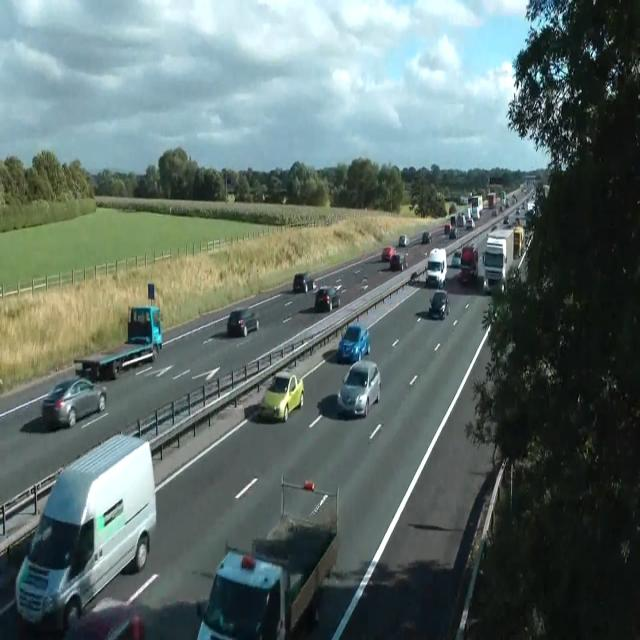bus: (64, 597, 146, 639), (41, 377, 107, 429), (337, 360, 381, 418), (260, 372, 304, 422), (337, 322, 370, 363), (227, 307, 259, 337), (314, 286, 340, 311), (428, 289, 449, 319), (293, 271, 315, 293), (381, 246, 395, 262), (389, 253, 401, 270), (451, 249, 461, 267), (421, 231, 431, 244), (398, 234, 408, 247), (465, 218, 475, 229), (449, 228, 456, 239), (444, 223, 450, 235), (503, 216, 509, 224), (491, 224, 497, 231), (512, 194, 516, 202)
jeep: (14, 430, 157, 632), (196, 547, 289, 638), (458, 244, 478, 282)
minibus: (196, 474, 340, 639), (73, 304, 162, 381), (482, 225, 524, 294), (426, 247, 446, 289), (469, 194, 483, 220), (487, 192, 496, 208), (500, 190, 506, 206)
